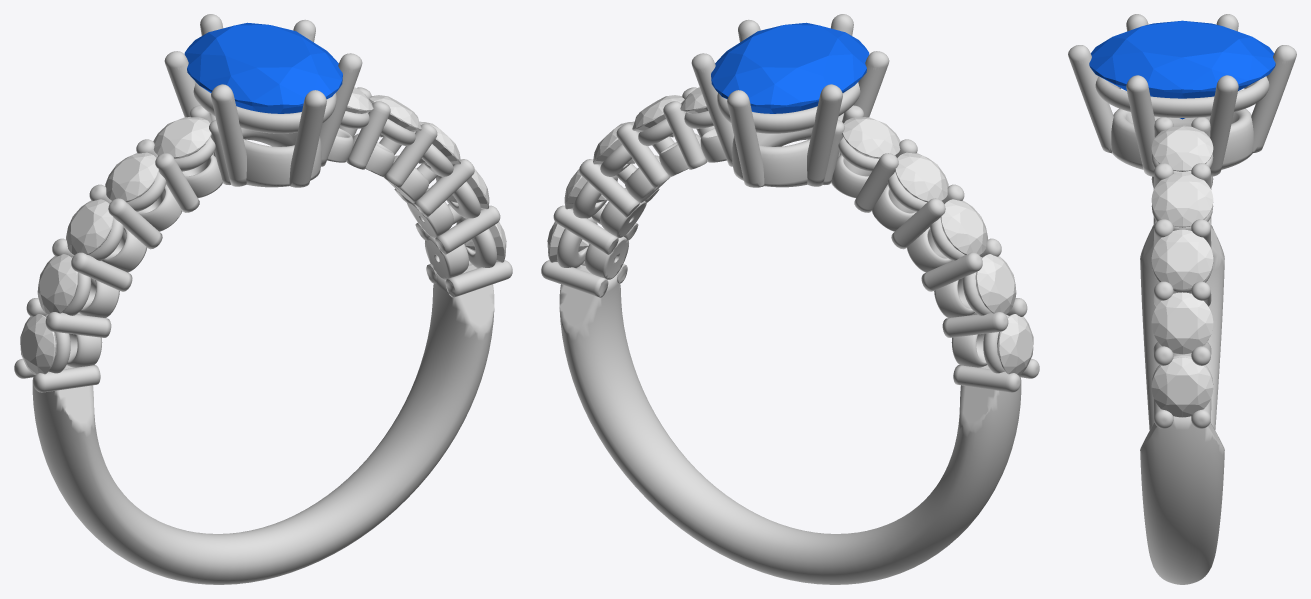
File: bluesapphire-oval-platinum-6prong-taperedband-11stone.glb
3 renders of one model, left to right at view 1: azimuth 30°, elevation 25°; view 2: azimuth 150°, elevation 25°; view 3: azimuth 270°, elevation 25°, orthographic.
Visible parts, largest first — view 1: metal, stone.001, side.012, side.013, side.011, side.014, side.010, side.018; view 2: metal, stone.001, side.012, side.013, side.011, side.014, side.010, side.018; view 3: metal, stone.001, side.016, side.017, side.015, side.018, side.019.
Part boxes in pixels (left/top/right/bottom): metal: left=14, top=14, right=512, bottom=584; stone.001: left=184, top=22, right=342, bottom=113; side.012: left=66, top=199, right=113, bottom=254; side.013: left=105, top=152, right=158, bottom=202; side.011: left=37, top=254, right=78, bottom=314; side.014: left=153, top=117, right=211, bottom=158; side.010: left=20, top=314, right=56, bottom=375; side.018: left=369, top=95, right=421, bottom=137; metal: left=541, top=14, right=1039, bottom=584; stone.001: left=711, top=22, right=869, bottom=113; side.012: left=940, top=199, right=987, bottom=254; side.013: left=895, top=152, right=948, bottom=202; side.011: left=975, top=254, right=1016, bottom=314; side.014: left=842, top=117, right=900, bottom=158; side.010: left=997, top=314, right=1033, bottom=375; side.018: left=632, top=95, right=684, bottom=137; metal: left=1068, top=14, right=1296, bottom=584; stone.001: left=1089, top=20, right=1275, bottom=119; side.016: left=1151, top=292, right=1213, bottom=353; side.017: left=1151, top=229, right=1213, bottom=289; side.015: left=1151, top=357, right=1213, bottom=417; side.018: left=1151, top=172, right=1213, bottom=227; side.019: left=1151, top=125, right=1213, bottom=171.
Bounding box in the file's own units: 21.96 × 23.4 × 9.29.
